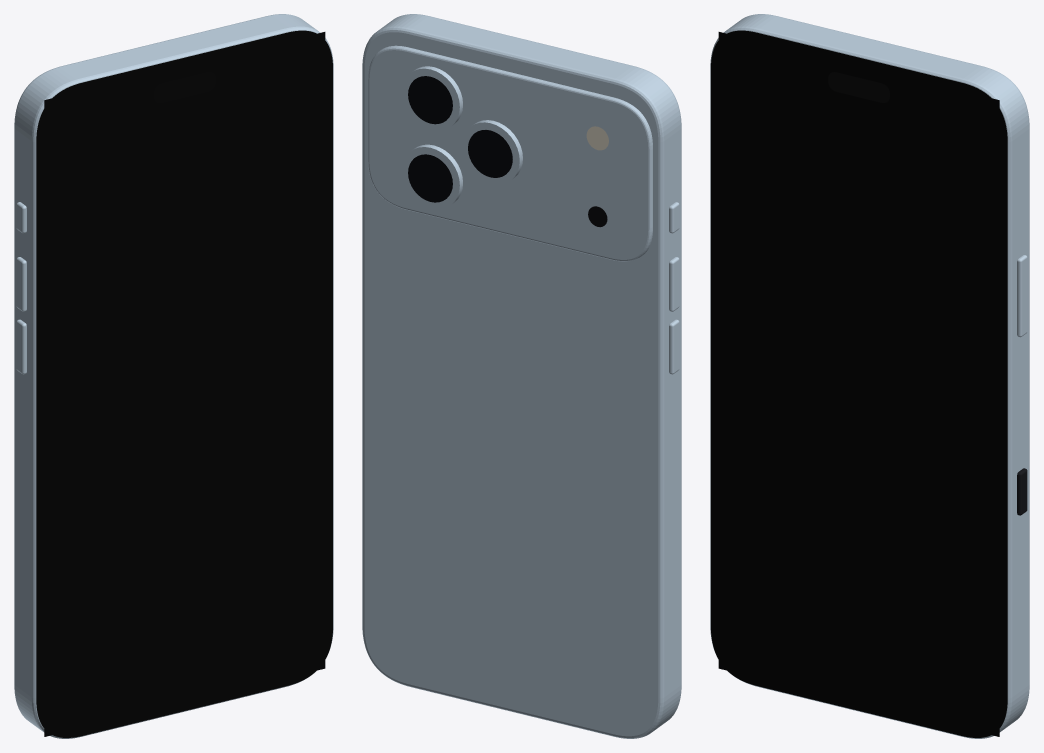
Rendered from iphone-18-pro-glacier.glb.
3 renders of one model, left to right at view 1: azimuth 30°, elevation 25°; view 2: azimuth 150°, elevation 25°; view 3: azimuth 330°, elevation 25°, orthographic.
Visible parts, largest first — view 1: Screen, iPhone 18 Pro; view 2: iPhone 18 Pro; view 3: Screen, iPhone 18 Pro.
Part boxes in pixels (bbox=[...]): Screen: bbox=[44, 32, 325, 736]; iPhone 18 Pro: bbox=[14, 14, 333, 738]; iPhone 18 Pro: bbox=[362, 14, 681, 738]; Screen: bbox=[718, 32, 999, 736]; iPhone 18 Pro: bbox=[710, 14, 1029, 738].
Size of the model in its own units: 0.0738 by 0.15 by 0.0114.
